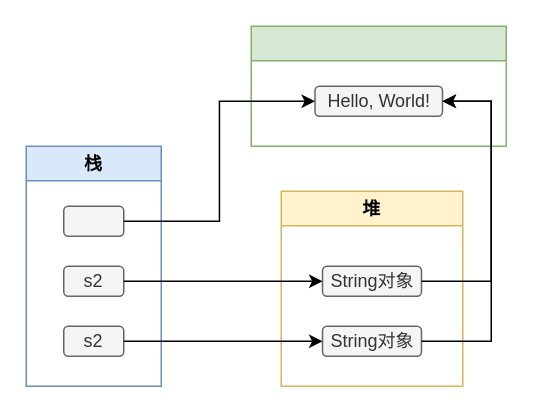
The diagram is 533 pixels wide and 413 high, and some of its shapes have lost their labels. Here are the shapes that lost their labels. From the top down, the box of each, then its label:
(250, 25, 506, 146): 常量池
(62, 205, 124, 236): s1
